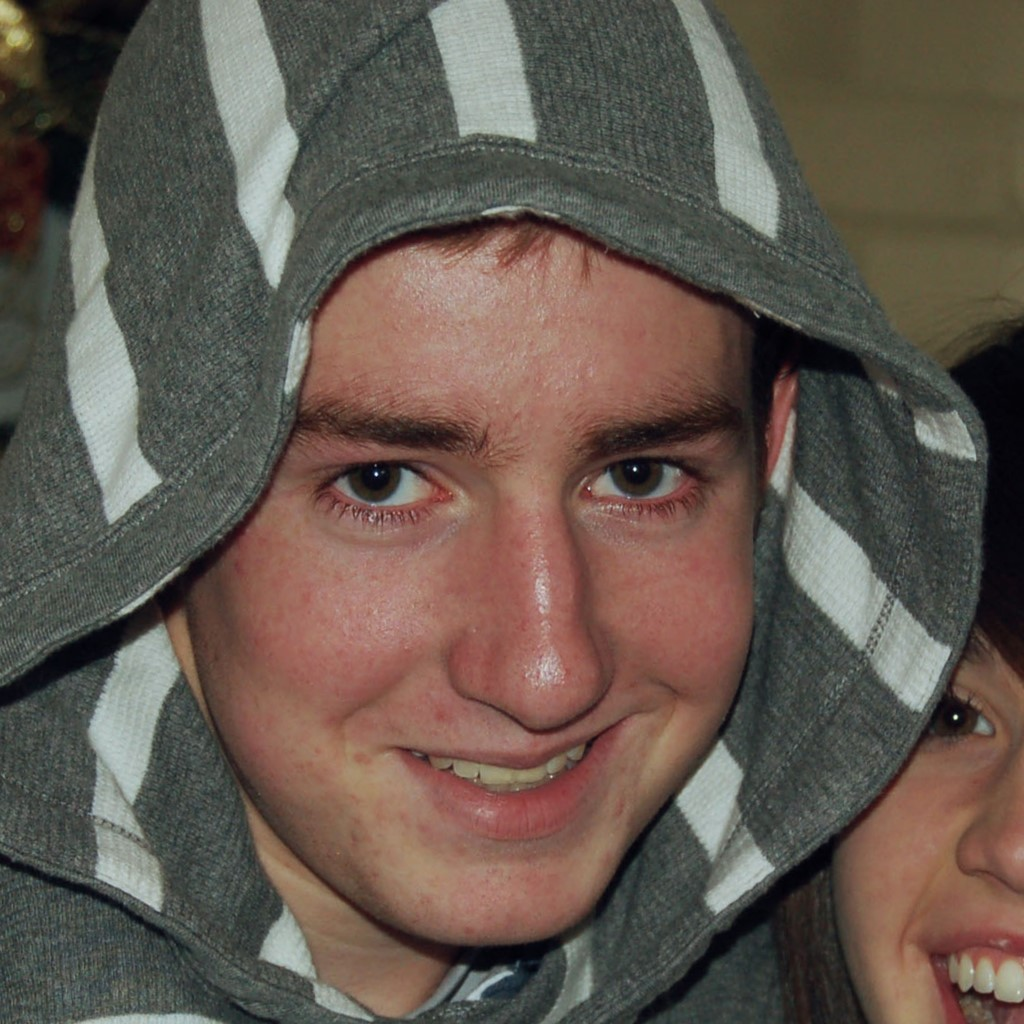sin_mascara: (188, 202, 776, 956)
